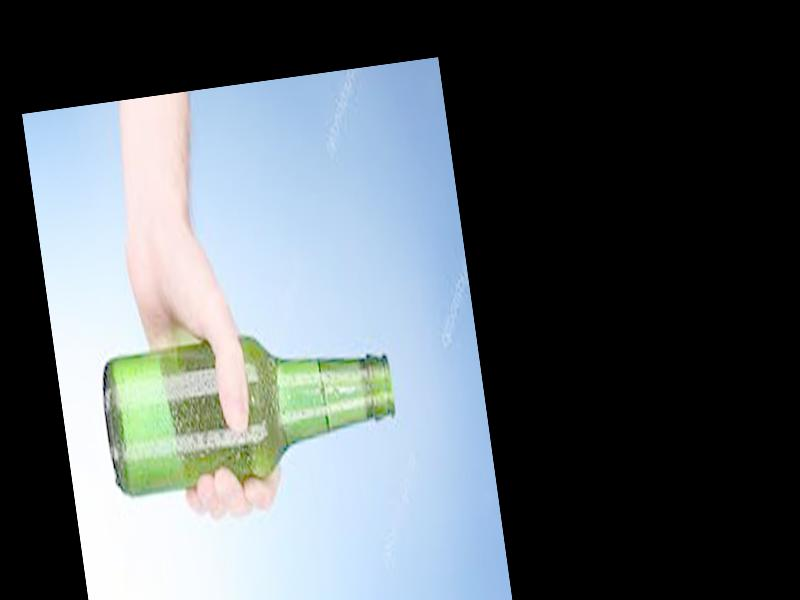Beer: (96, 320, 403, 496)
